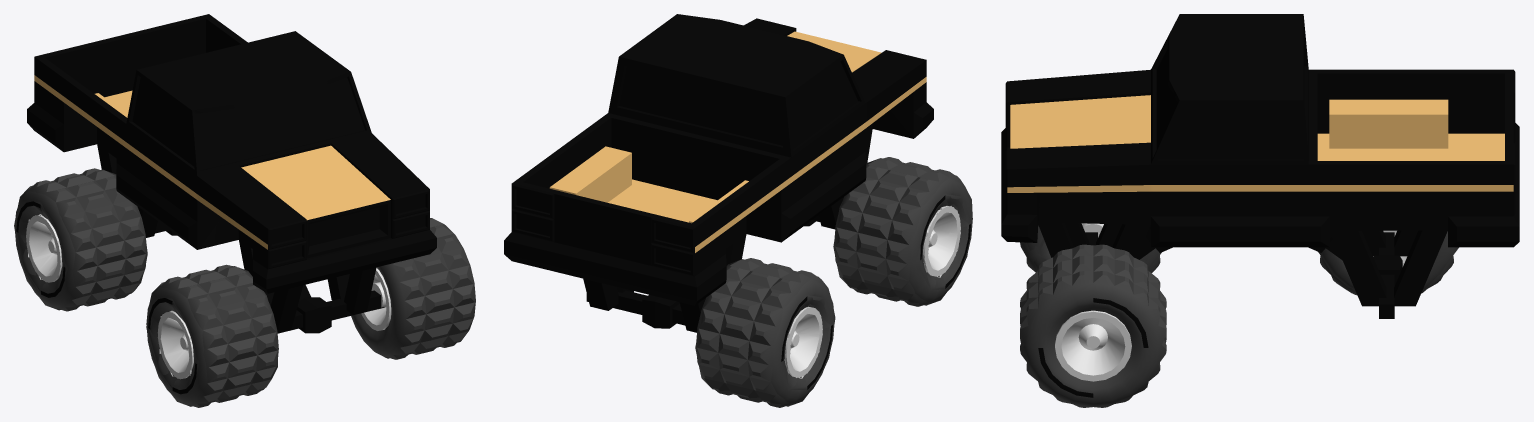
File: newtruck.glb
3 renders of one model, left to right at view 1: azimuth 30°, elevation 25°; view 2: azimuth 150°, elevation 25°; view 3: azimuth 270°, elevation 25°, orthographic. The views are drawn at different scales.
Visible parts, largest first — view 1: Truckbody, Wheel_FR_Combined, Wheel_BR_Combined, Wheel_FL_Combined; view 2: Truckbody, Wheel_BR_Combined, Wheel_FR_Combined; view 3: Truckbody, Wheel_FL_Combined, Wheel_BR_Combined, Wheel_FR_Combined.
Boxes of the visible parts, <box> form: Truckbody: <box>27,14,436,333</box>; Wheel_FR_Combined: <box>146,264,278,407</box>; Wheel_BR_Combined: <box>14,168,147,311</box>; Wheel_FL_Combined: <box>351,218,475,359</box>; Truckbody: <box>504,14,933,332</box>; Wheel_BR_Combined: <box>695,258,835,407</box>; Wheel_FR_Combined: <box>833,157,972,306</box>; Truckbody: <box>1001,14,1519,318</box>; Wheel_FL_Combined: <box>1020,244,1166,407</box>; Wheel_BR_Combined: <box>1318,230,1458,295</box>; Wheel_FR_Combined: <box>1020,223,1161,273</box>.
Size of what is drawn, in the model's own units: 3.02 by 2.63 by 4.38.
4 materials, 1 textured.
